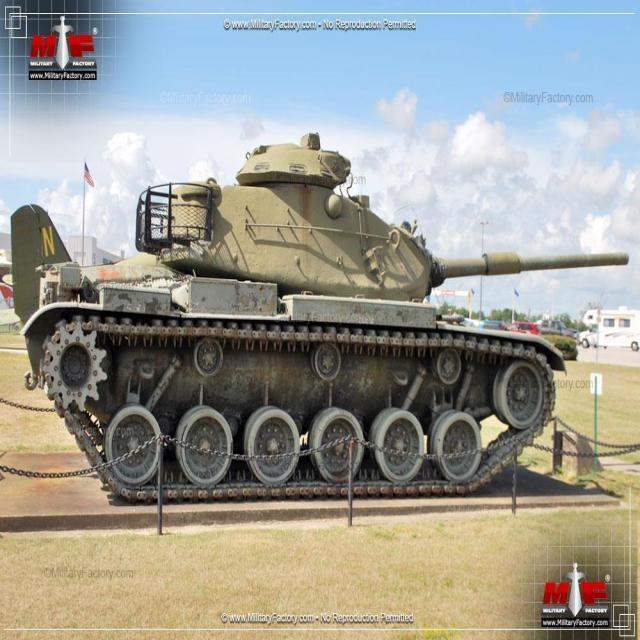Tanks: (18, 128, 628, 519)
